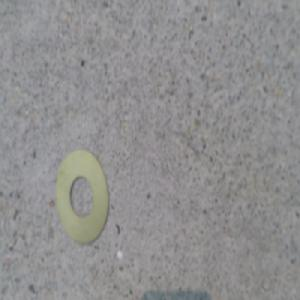Washer: (52, 147, 109, 246)
